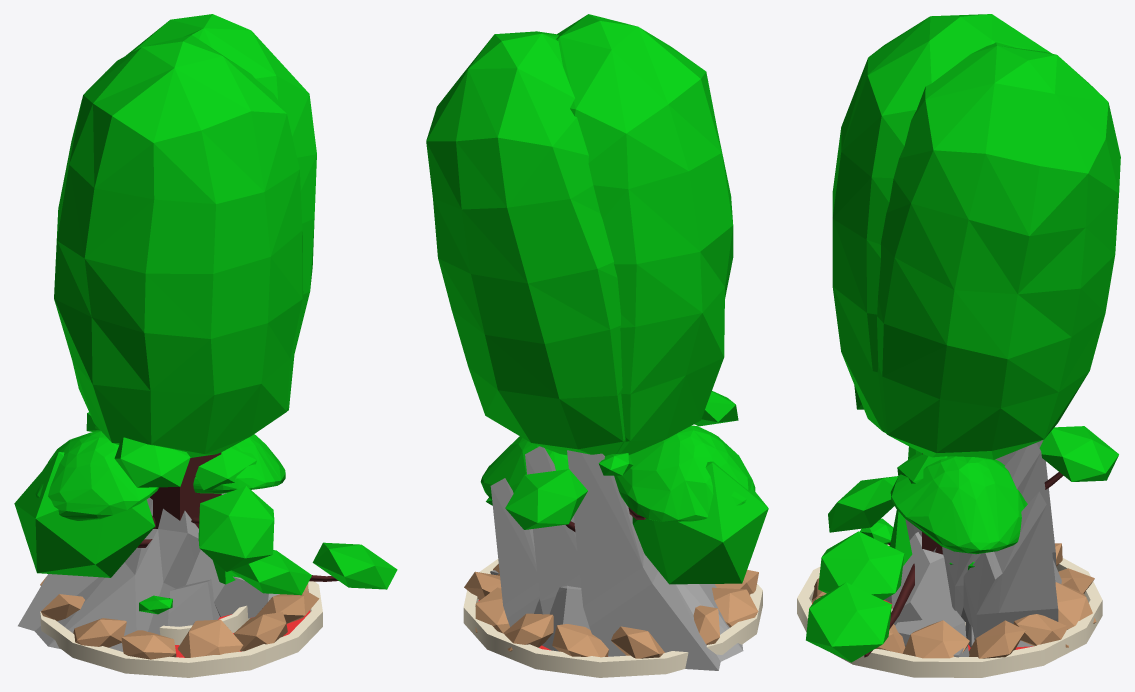
Rendered from Prototype.FBX.
The picture shows the model from 3 angles, left to right: view 1: azimuth 30°, elevation 25°; view 2: azimuth 150°, elevation 25°; view 3: azimuth 270°, elevation 25°; orthographic projection. The views are drawn at different scales.
Visible parts, largest first — view 1: Prot 5, Tree 1, Stone 3, Prot 6, Prot 4, Stone 2, Stone 1; view 2: Prot 6, Prot 5, Tree 1, Stone 3, Prot 4, Stone 1; view 3: Prot 6, Tree 1, Prot 5, Stone 3, Prot 4, Stone 2, Stone 1.
Boxes of the visible parts, left/top/right/bottom form: Prot 5: left=54, top=35, right=303, bottom=528; Tree 1: left=14, top=412, right=397, bottom=677; Stone 3: left=18, top=493, right=226, bottom=651; Prot 6: left=126, top=14, right=316, bottom=494; Prot 4: left=35, top=430, right=285, bottom=528; Stone 2: left=186, top=550, right=268, bottom=618; Stone 1: left=168, top=579, right=279, bottom=626; Prot 6: left=426, top=31, right=625, bottom=456; Prot 5: left=556, top=14, right=733, bottom=454; Tree 1: left=463, top=391, right=768, bottom=677; Stone 3: left=490, top=446, right=743, bottom=670; Prot 4: left=480, top=425, right=755, bottom=521; Stone 1: left=534, top=585, right=590, bottom=651; Prot 6: left=877, top=42, right=1120, bottom=554; Tree 1: left=797, top=385, right=1118, bottom=677; Prot 5: left=832, top=14, right=1051, bottom=548; Stone 3: left=889, top=440, right=1058, bottom=657; Prot 4: left=890, top=456, right=1027, bottom=554; Stone 2: left=891, top=532, right=952, bottom=625; Stone 1: left=884, top=559, right=1061, bottom=647.
Size of the model in its own units: 156 by 279 by 134.
